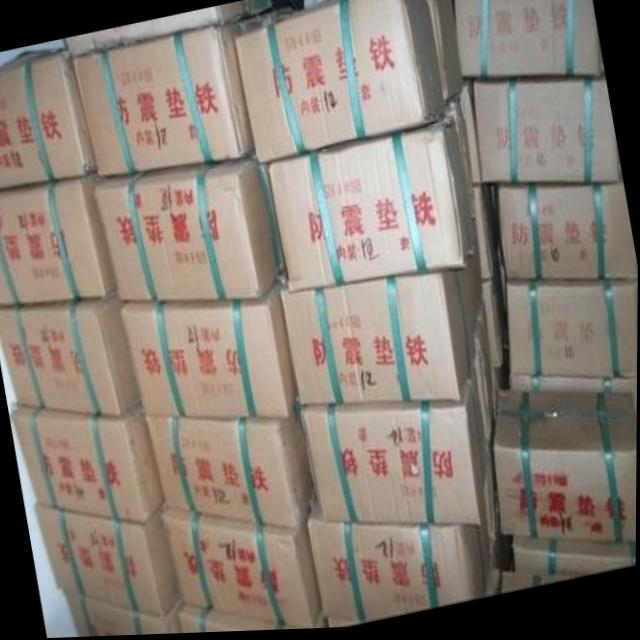box: (265, 110, 477, 294), (232, 0, 446, 168), (71, 18, 256, 180), (302, 370, 488, 528), (95, 154, 283, 303), (281, 268, 477, 410), (121, 283, 298, 421), (309, 499, 493, 624), (494, 393, 637, 546), (145, 402, 314, 528), (161, 510, 321, 631), (11, 406, 164, 525), (0, 296, 141, 417), (37, 504, 183, 620), (472, 83, 623, 185), (0, 177, 117, 304), (496, 186, 638, 285), (0, 53, 96, 189), (507, 284, 638, 380), (454, 0, 601, 83), (64, 589, 183, 638), (180, 606, 324, 635)
